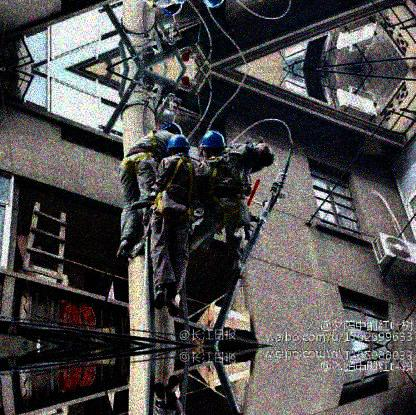helmet: (199, 131, 226, 156), (168, 134, 190, 157), (159, 120, 183, 133)
